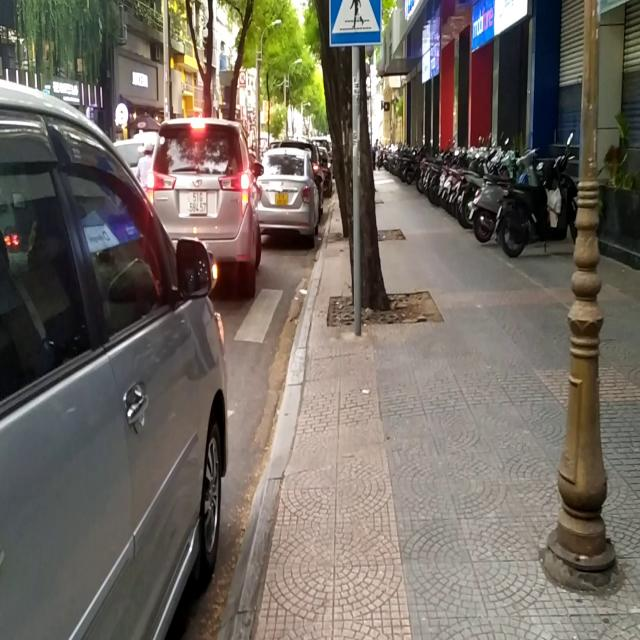bien_trang: (188, 188, 208, 218)
